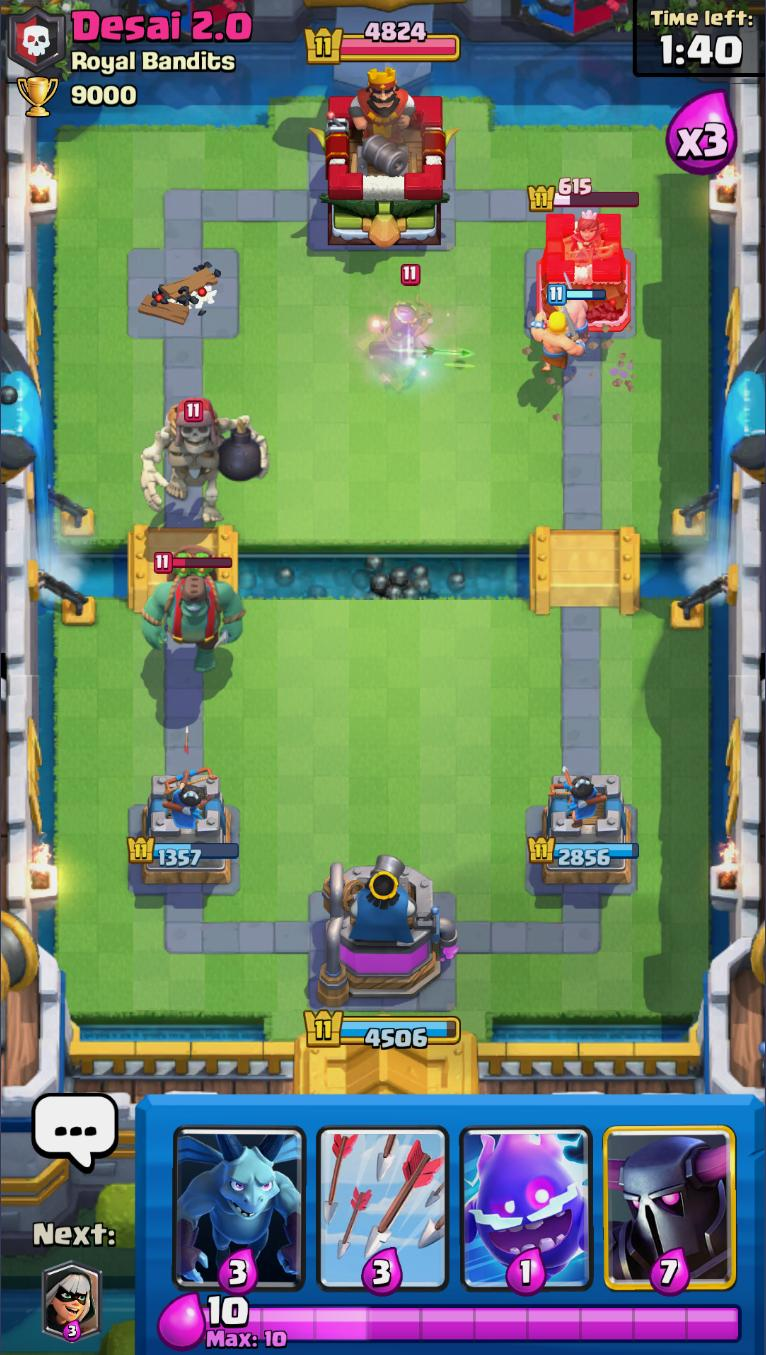ArcherQueen: (362, 262, 435, 391)
ArrowDeck: (311, 1098, 454, 1300)
BanditNext: (42, 1265, 104, 1342)
ElectroSpiritDeck: (454, 1096, 600, 1297)
Elixir: (202, 1297, 745, 1350)
EnemyTower: (524, 212, 634, 333)
EnemyTowerBrocken: (129, 245, 236, 336)
GoblinGiant: (141, 545, 243, 676)
KingTower: (308, 66, 462, 250)
KingTowerHP: (304, 22, 460, 65)
MinionsDeck: (169, 1094, 313, 1295)
MyBarbarian: (530, 308, 588, 374), (545, 283, 607, 341)
MyKingHP: (304, 1007, 462, 1051)
MyKingTower: (317, 854, 459, 1008)
MyPekka: (138, 396, 267, 528)
MyPrincessTower: (128, 771, 239, 896), (529, 769, 640, 886)
MyPrincessTowerHP: (127, 835, 240, 867), (528, 837, 640, 869)
PekkaDeck: (601, 1097, 740, 1295)
PrincessTower: (550, 216, 607, 267)
TowerPrincessHP: (529, 178, 641, 212)
